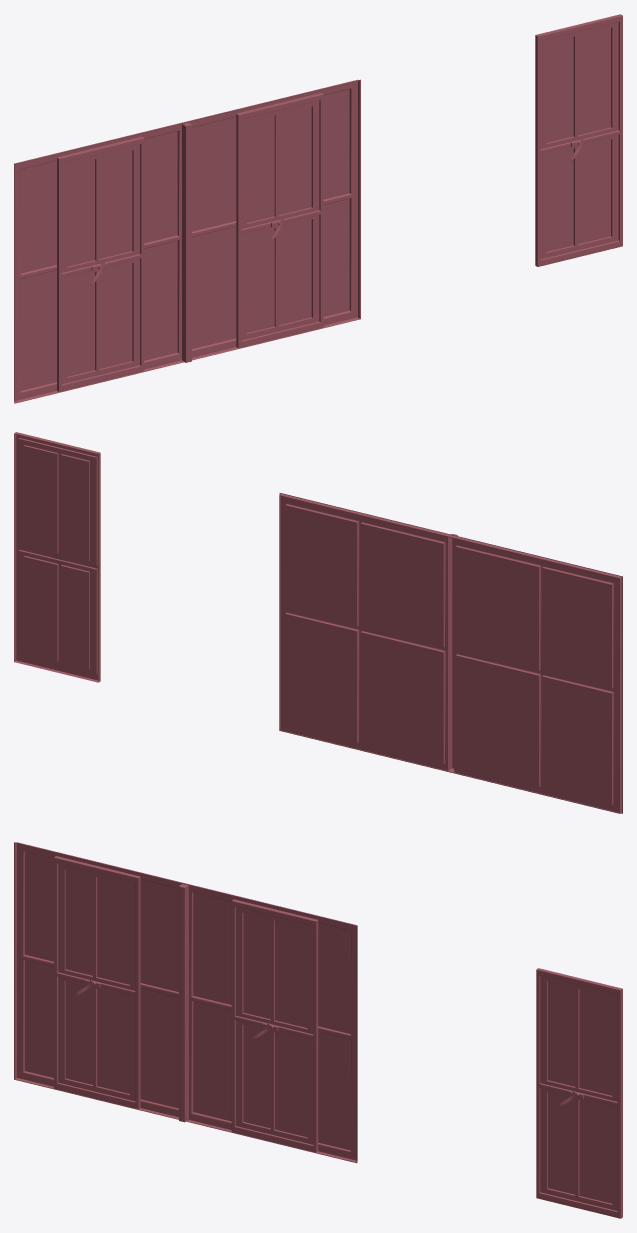
Rendered from EnvironmentProject_window.fbx.
The picture shows the model from 3 angles, top to bottom: view 1: azimuth 30°, elevation 25°; view 2: azimuth 150°, elevation 25°; view 3: azimuth 330°, elevation 25°; orthographic projection.
Visible parts, largest first — view 1: window_b_GEO_01, windowpane_b_GEO_02, windowpane_b_GEO_01, window_a_GEO_01; view 2: window_b_GEO_01, window_a_GEO_01; view 3: window_b_GEO_01, windowpane_b_GEO_01, windowpane_b_GEO_02, window_a_GEO_01.
Part boxes in pixels (x1,y1,x2,y2): window_b_GEO_01: (14,79,360,403); windowpane_b_GEO_02: (57,136,144,391); windowpane_b_GEO_01: (236,93,323,348); window_a_GEO_01: (535,14,622,266); window_b_GEO_01: (279,493,622,813); window_a_GEO_01: (14,432,100,682); window_b_GEO_01: (14,842,357,1163); windowpane_b_GEO_01: (231,899,318,1152); windowpane_b_GEO_02: (54,856,140,1108); window_a_GEO_01: (536,968,622,1218).
Bounding box in the file's own units: 636 × 239 × 20.77.
